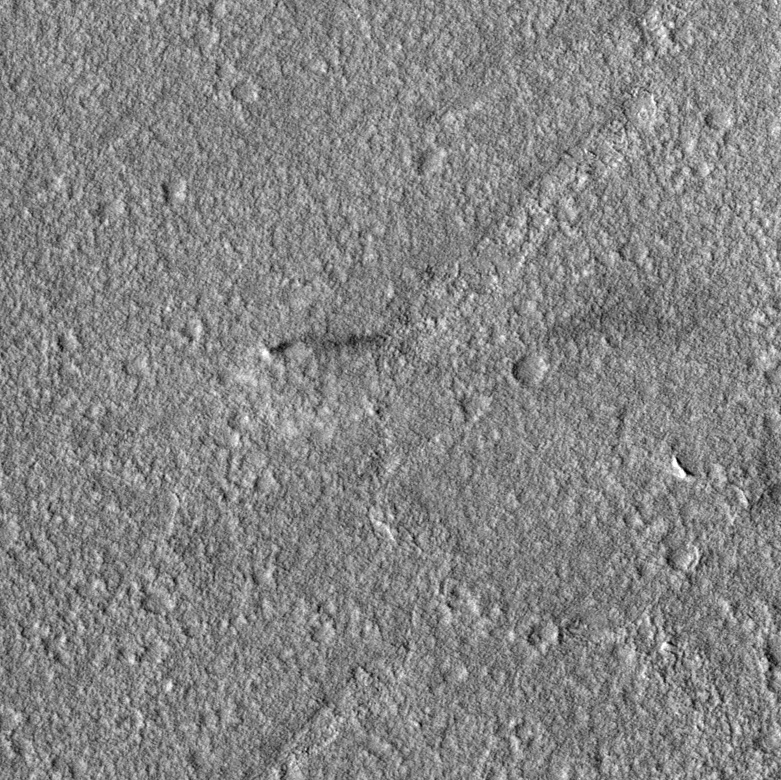dust_devil: (259, 328, 389, 363)
